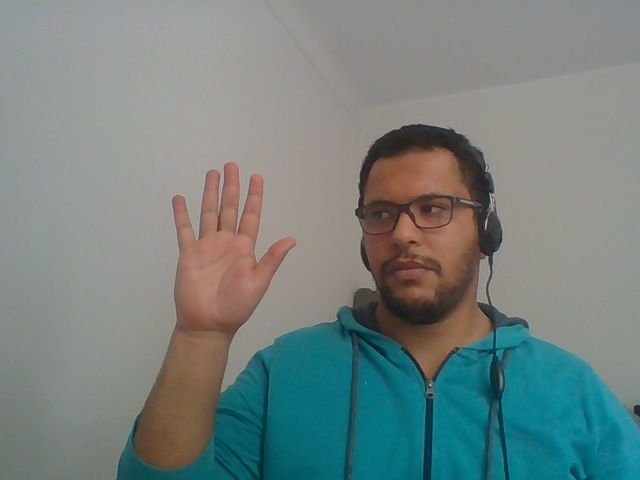hello: (132, 142, 305, 414)
